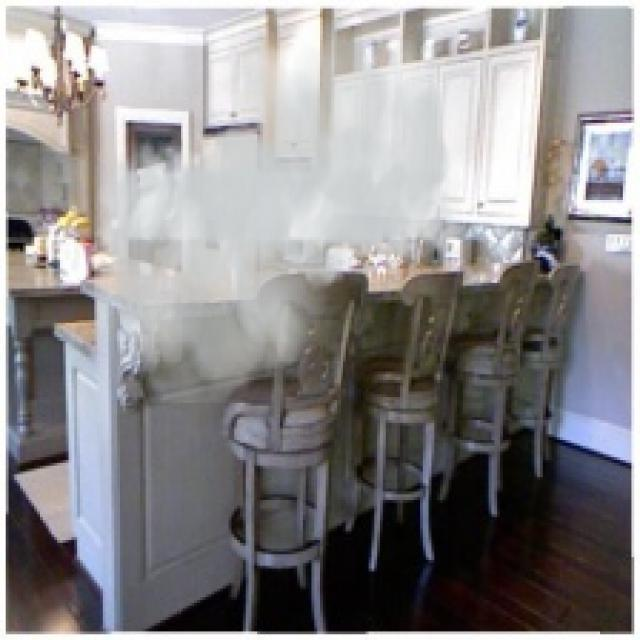Smoke: (94, 8, 466, 403)
